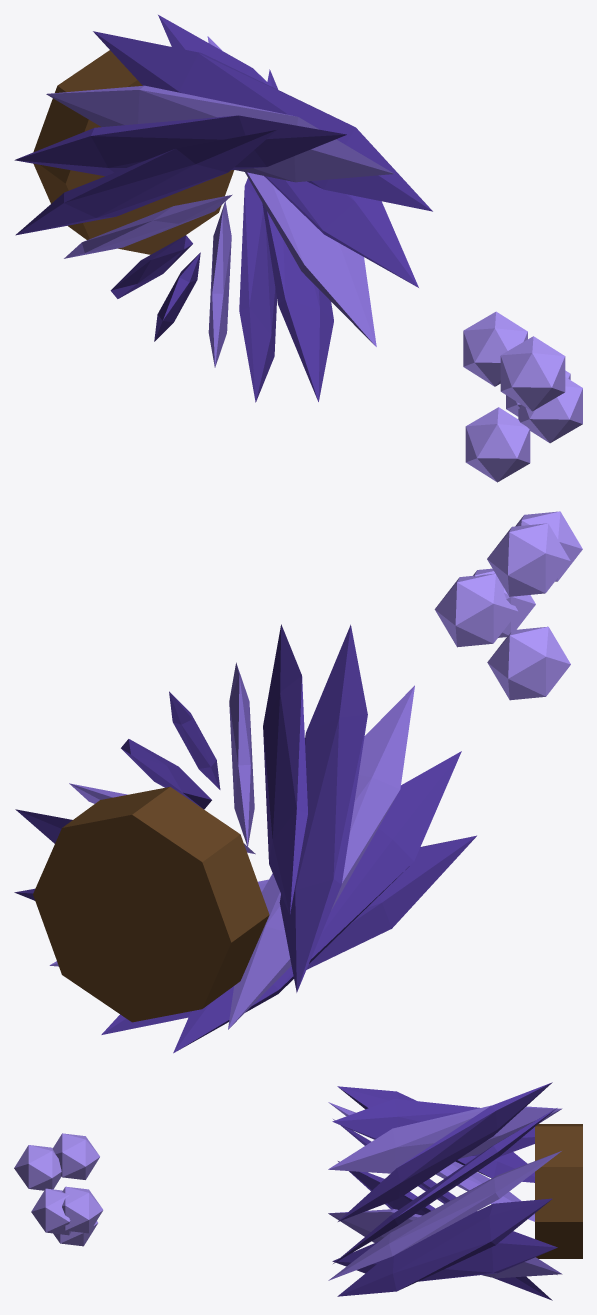
Rendered from 4_mature.obj.
3 renders of one model, top to bottom at view 1: azimuth 30°, elevation 25°; view 2: azimuth 150°, elevation 25°; view 3: azimuth 270°, elevation 25°, orthographic. The views are drawn at different scales.
Visible parts, largest first — view 1: cadantine_4_mature; view 2: cadantine_4_mature; view 3: cadantine_4_mature.
Part boxes in pixels (box(x1,y1,x2,y2)): cadantine_4_mature: box(14, 15, 582, 482); cadantine_4_mature: box(14, 511, 582, 1053); cadantine_4_mature: box(14, 1082, 582, 1300).
Bounding box in the file's own units: 0.1808 × 0.1808 × 0.4745.
